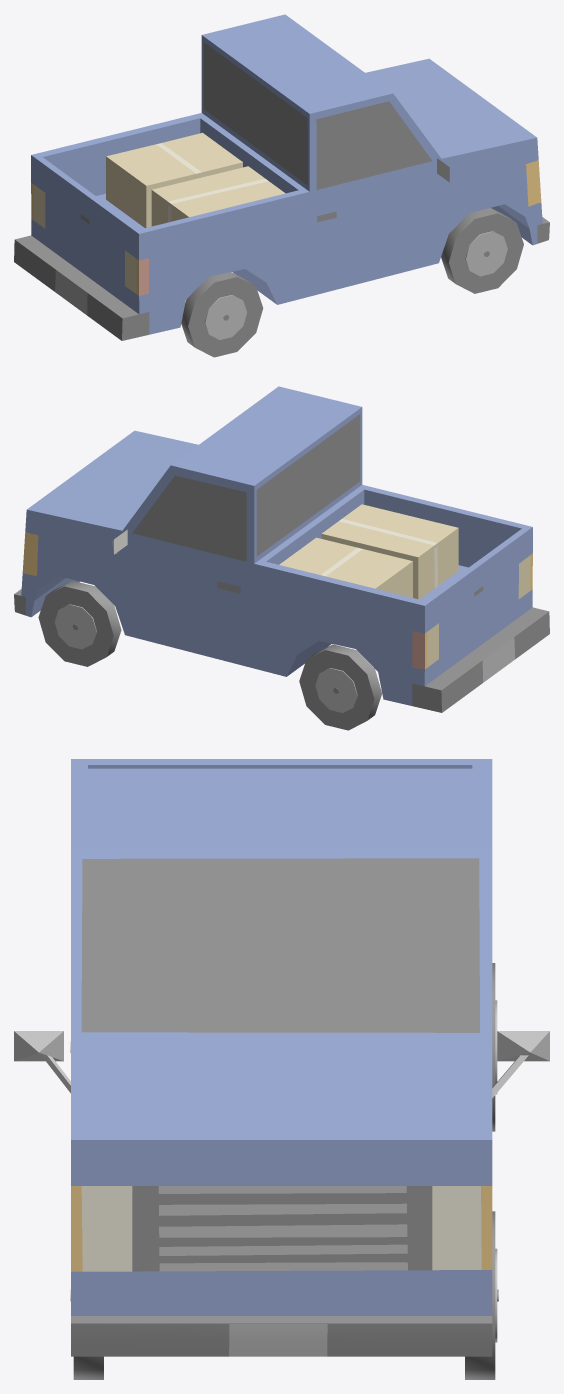
Rendered from kar_19.fbx.
The picture shows the model from 3 angles, top to bottom: view 1: azimuth 30°, elevation 25°; view 2: azimuth 150°, elevation 25°; view 3: azimuth 270°, elevation 25°; orthographic projection. The views are drawn at different scales.
Visible parts, largest first — view 1: Cube, Cylinder_6, Cylinder_9; view 2: Cube, Cylinder_8, Cylinder_7; view 3: Cube, Cylinder_7, Cylinder_8, Cylinder_6.
Boxes of the visible parts, x1=… form: Cube: x1=14, y1=14, x2=549, y2=340; Cylinder_6: x1=441, y1=208, x2=523, y2=293; Cylinder_9: x1=181, y1=272, x2=263, y2=357; Cube: x1=14, y1=386, x2=549, y2=712; Cylinder_8: x1=299, y1=644, x2=381, y2=730; Cylinder_7: x1=38, y1=580, x2=121, y2=666; Cube: x1=14, y1=759, x2=549, y2=1356; Cylinder_7: x1=465, y1=1211, x2=498, y2=1379; Cylinder_8: x1=492, y1=963, x2=497, y2=1131; Cylinder_6: x1=70, y1=1290, x2=103, y2=1379.
Bounding box in the file's own units: 435 × 215 × 242.
